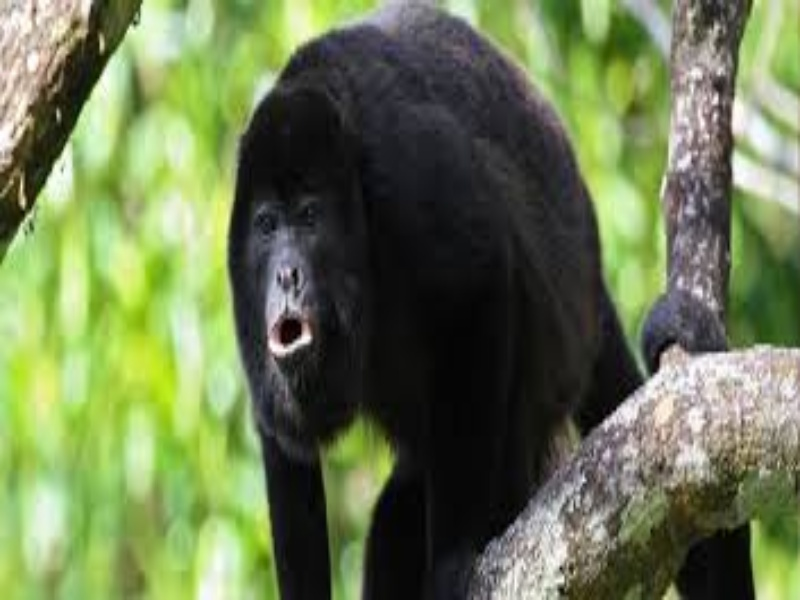monkey: (218, 10, 675, 576)
